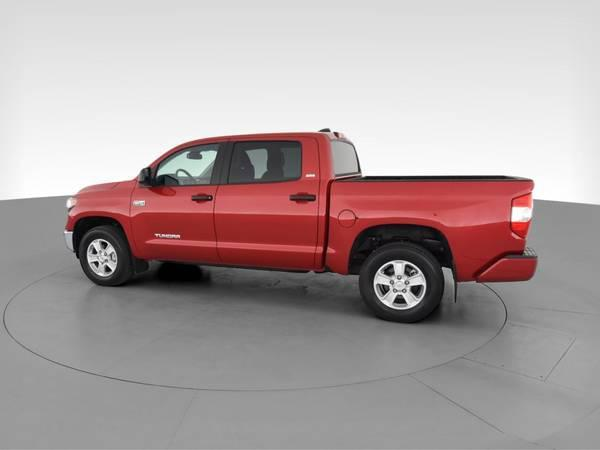Front_Fender: (67, 183, 142, 258)
Front_Left_Door: (129, 185, 219, 265)
Front_Left_Window: (138, 143, 233, 186)
Left_Taillight: (511, 195, 534, 244)
Rear_Bumper: (475, 250, 540, 287)
Rear_Fender: (324, 181, 534, 286)
Rear_Left_Door: (213, 182, 331, 272)
Rear_Left_Window: (223, 141, 306, 187)
Rear_Windshield: (325, 131, 366, 183)
Roof: (141, 132, 332, 180)
Wheel: (360, 242, 443, 326), (75, 226, 132, 286)
